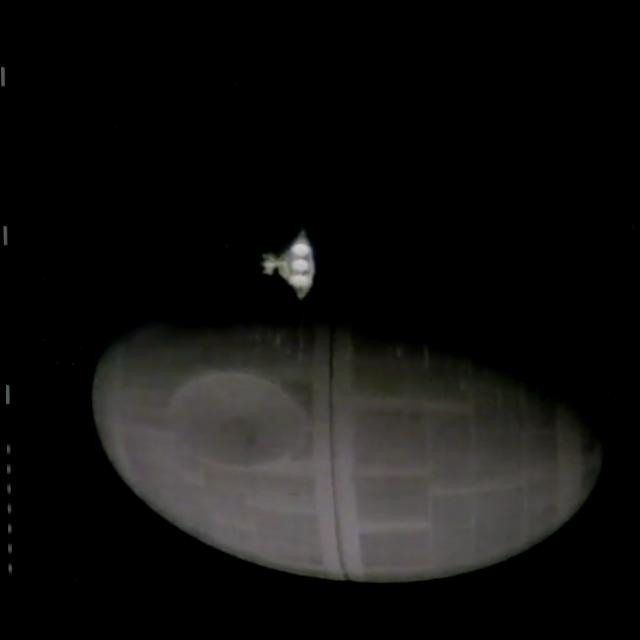deathStar: (92, 264, 618, 587)
